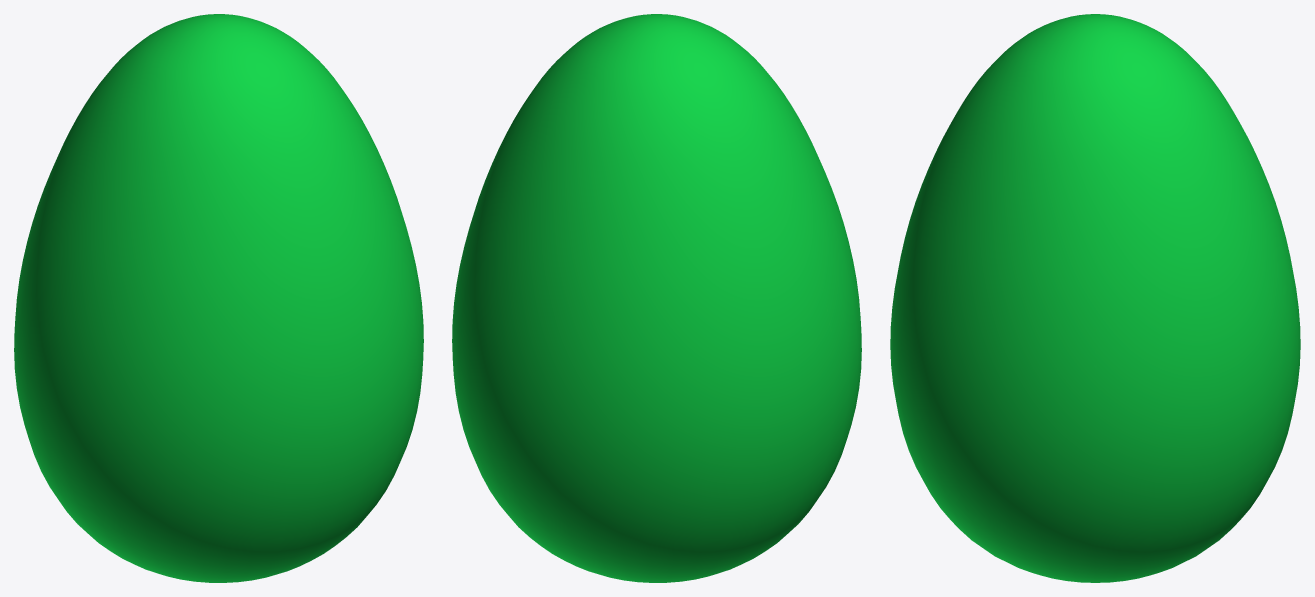
File: egg_1.glb
3 renders of one model, left to right at view 1: azimuth 30°, elevation 25°; view 2: azimuth 150°, elevation 25°; view 3: azimuth 270°, elevation 25°, orthographic.
Parts seen in each view (by area): view 1: node_id91; view 2: node_id91; view 3: node_id91.
Part boxes in pixels (x1,y1,x2,y2): node_id91: [14, 14, 423, 582]; node_id91: [452, 14, 861, 582]; node_id91: [890, 14, 1300, 582].
Bounding box in the file's own units: 0.2417 × 0.3508 × 0.2417.
1 material, 1 textured.
